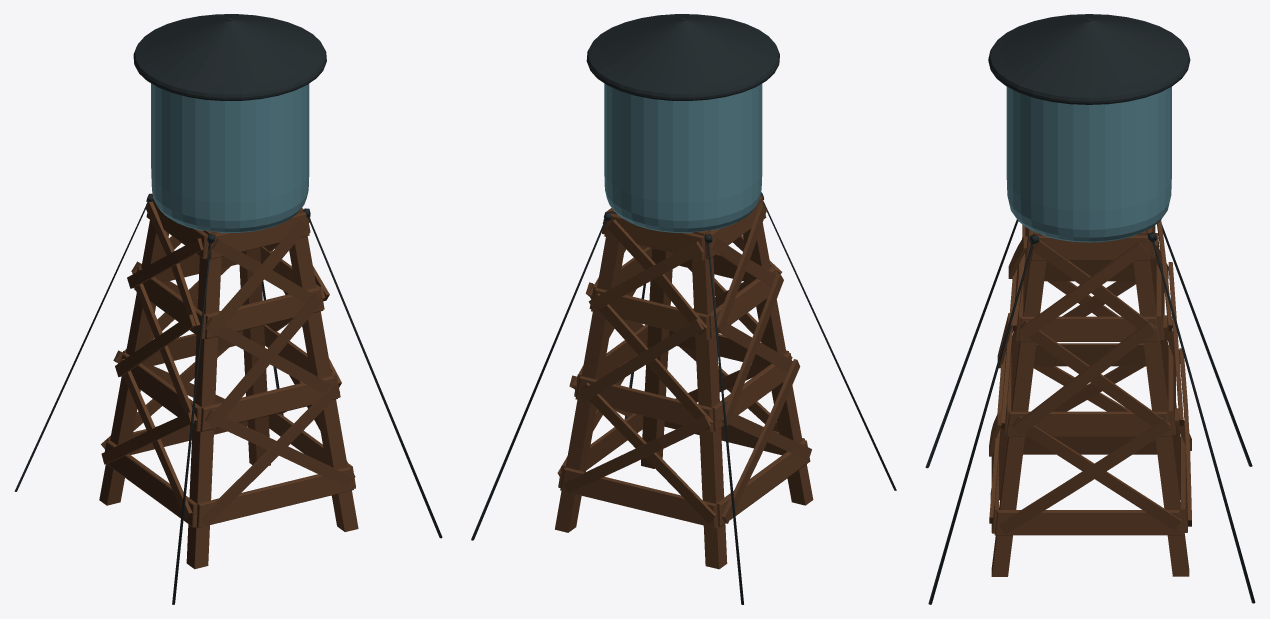
The model's file is Water_Tank_V01.fbx.
3 views of the same model, side by side, from view 1: azimuth 30°, elevation 25°; view 2: azimuth 150°, elevation 25°; view 3: azimuth 270°, elevation 25° (orthographic). The views are drawn at different scales.
Visible parts, largest first — view 1: Water_Tank; view 2: Water_Tank; view 3: Water_Tank.
Part boxes in pixels (<box>): Water_Tank: <box>14,14,442,604</box>; Water_Tank: <box>471,14,896,604</box>; Water_Tank: <box>925,14,1255,604</box>.
Bounding box in the file's own units: 232 × 400 × 232.
